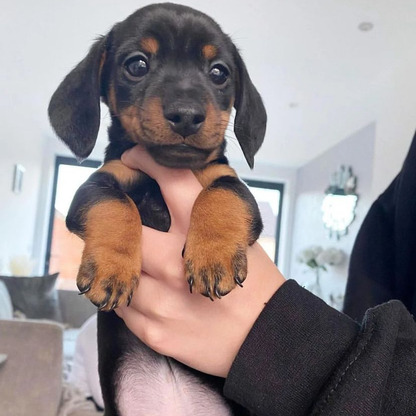dachshund: (51, 1, 275, 307)
